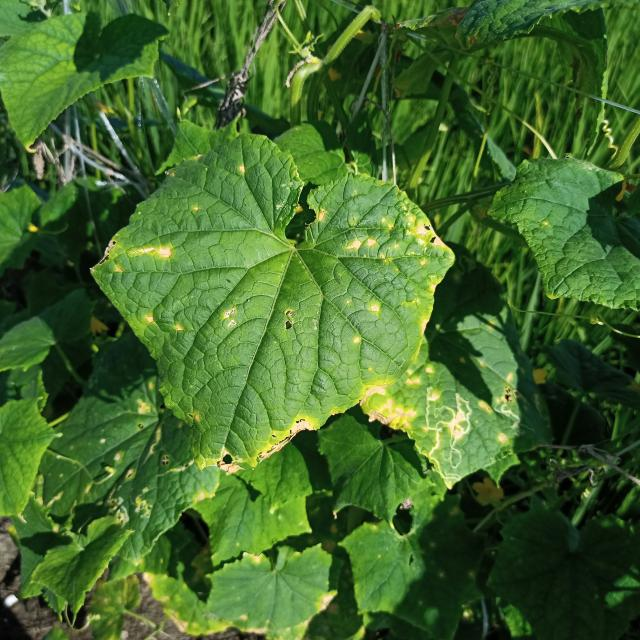disease_cucumber: (347, 210, 454, 272), (358, 378, 419, 436), (100, 237, 175, 278), (258, 415, 316, 458), (221, 306, 240, 331), (237, 163, 247, 176), (369, 305, 382, 314), (316, 210, 325, 223), (145, 315, 154, 326), (174, 326, 183, 334)
